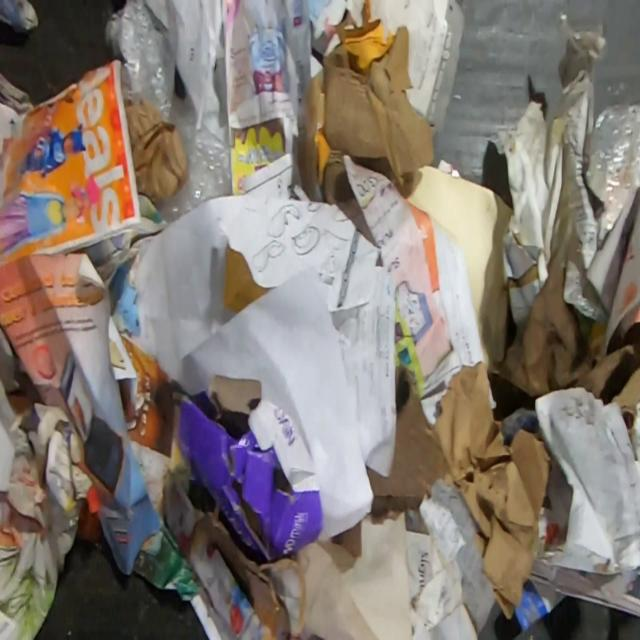cardboard: (496, 148, 640, 447), (150, 371, 323, 564), (430, 361, 552, 621), (320, 23, 435, 246), (189, 503, 308, 640), (366, 362, 454, 518), (124, 97, 189, 207), (133, 509, 200, 602), (297, 65, 326, 203), (222, 244, 271, 314), (0, 0, 41, 36), (331, 519, 360, 557)
soft_plastic: (102, 0, 231, 224), (581, 99, 640, 249)
